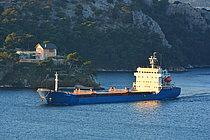Ship: (31, 53, 186, 114)
